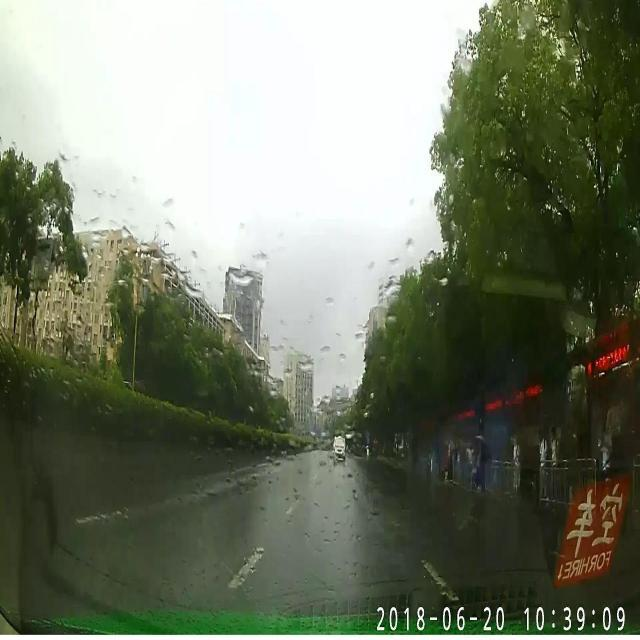car: (332, 435, 344, 460)
